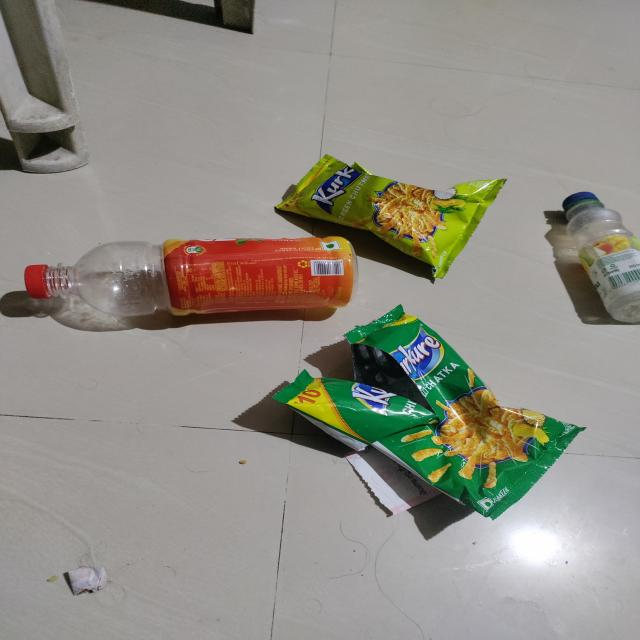dry: (266, 307, 562, 537), (6, 213, 409, 341), (279, 147, 516, 284), (555, 158, 640, 361)
